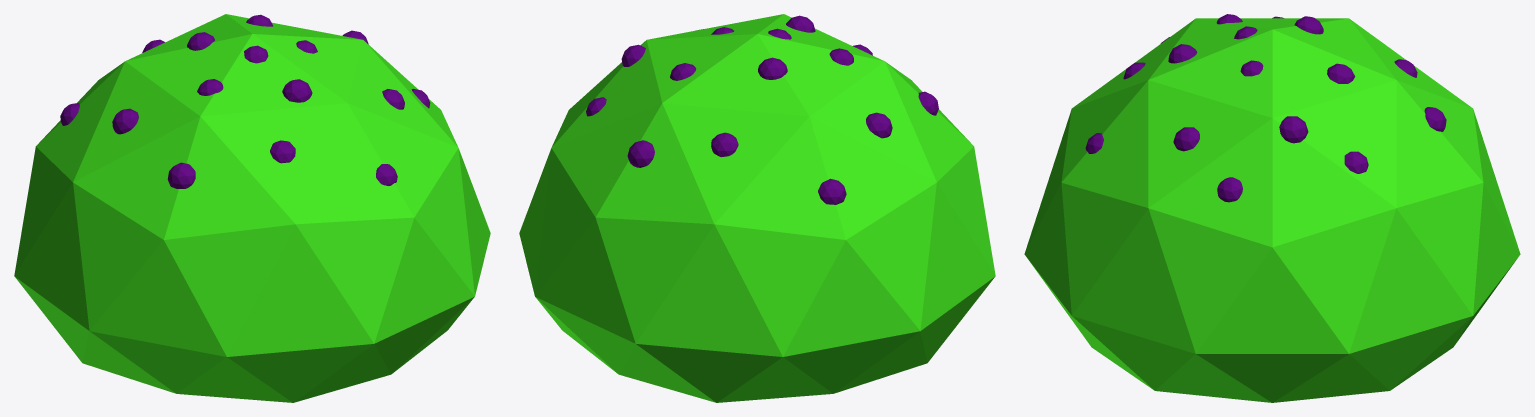
File: marjapuska1.fbx
The picture shows the model from 3 angles, left to right: view 1: azimuth 30°, elevation 25°; view 2: azimuth 150°, elevation 25°; view 3: azimuth 270°, elevation 25°; orthographic projection.
Parts seen in each view (by area): view 1: puska, marja, marja.016, marja.005, marja.001; view 2: puska, marja.007, marja.004, marja.006, marja.005, marja.012; view 3: puska, marja.009, marja.008, marja.002, marja.011, marja.010.
Part boxes in pixels (x1=…): puska: x1=14, y1=14, x2=490, y2=402; marja: x1=167, y1=162, x2=195, y2=188; marja.016: x1=282, y1=79, x2=312, y2=102; marja.005: x1=112, y1=108, x2=138, y2=134; marja.001: x1=270, y1=140, x2=295, y2=163; puska: x1=519, y1=14, x2=995, y2=402; marja.007: x1=627, y1=140, x2=654, y2=167; marja.004: x1=818, y1=178, x2=846, y2=204; marja.006: x1=711, y1=132, x2=738, y2=157; marja.005: x1=866, y1=112, x2=892, y2=138; marja.012: x1=758, y1=57, x2=787, y2=79; puska: x1=1024, y1=18, x2=1520, y2=402; marja.009: x1=1279, y1=116, x2=1308, y2=143; marja.008: x1=1217, y1=177, x2=1242, y2=202; marja.002: x1=1173, y1=127, x2=1199, y2=151; marja.011: x1=1327, y1=63, x2=1355, y2=83; marja.010: x1=1344, y1=151, x2=1368, y2=173.
Size of the model in its own units: 69.15 by 47.4 by 72.71.
